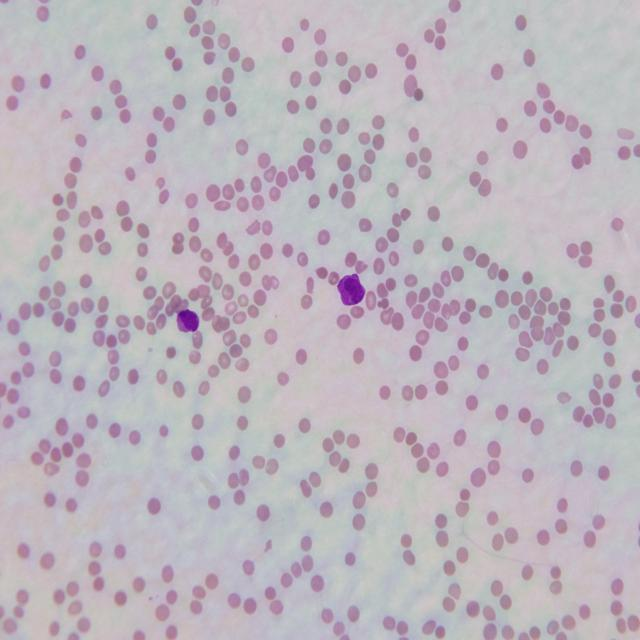cell: (338, 274, 365, 306)
